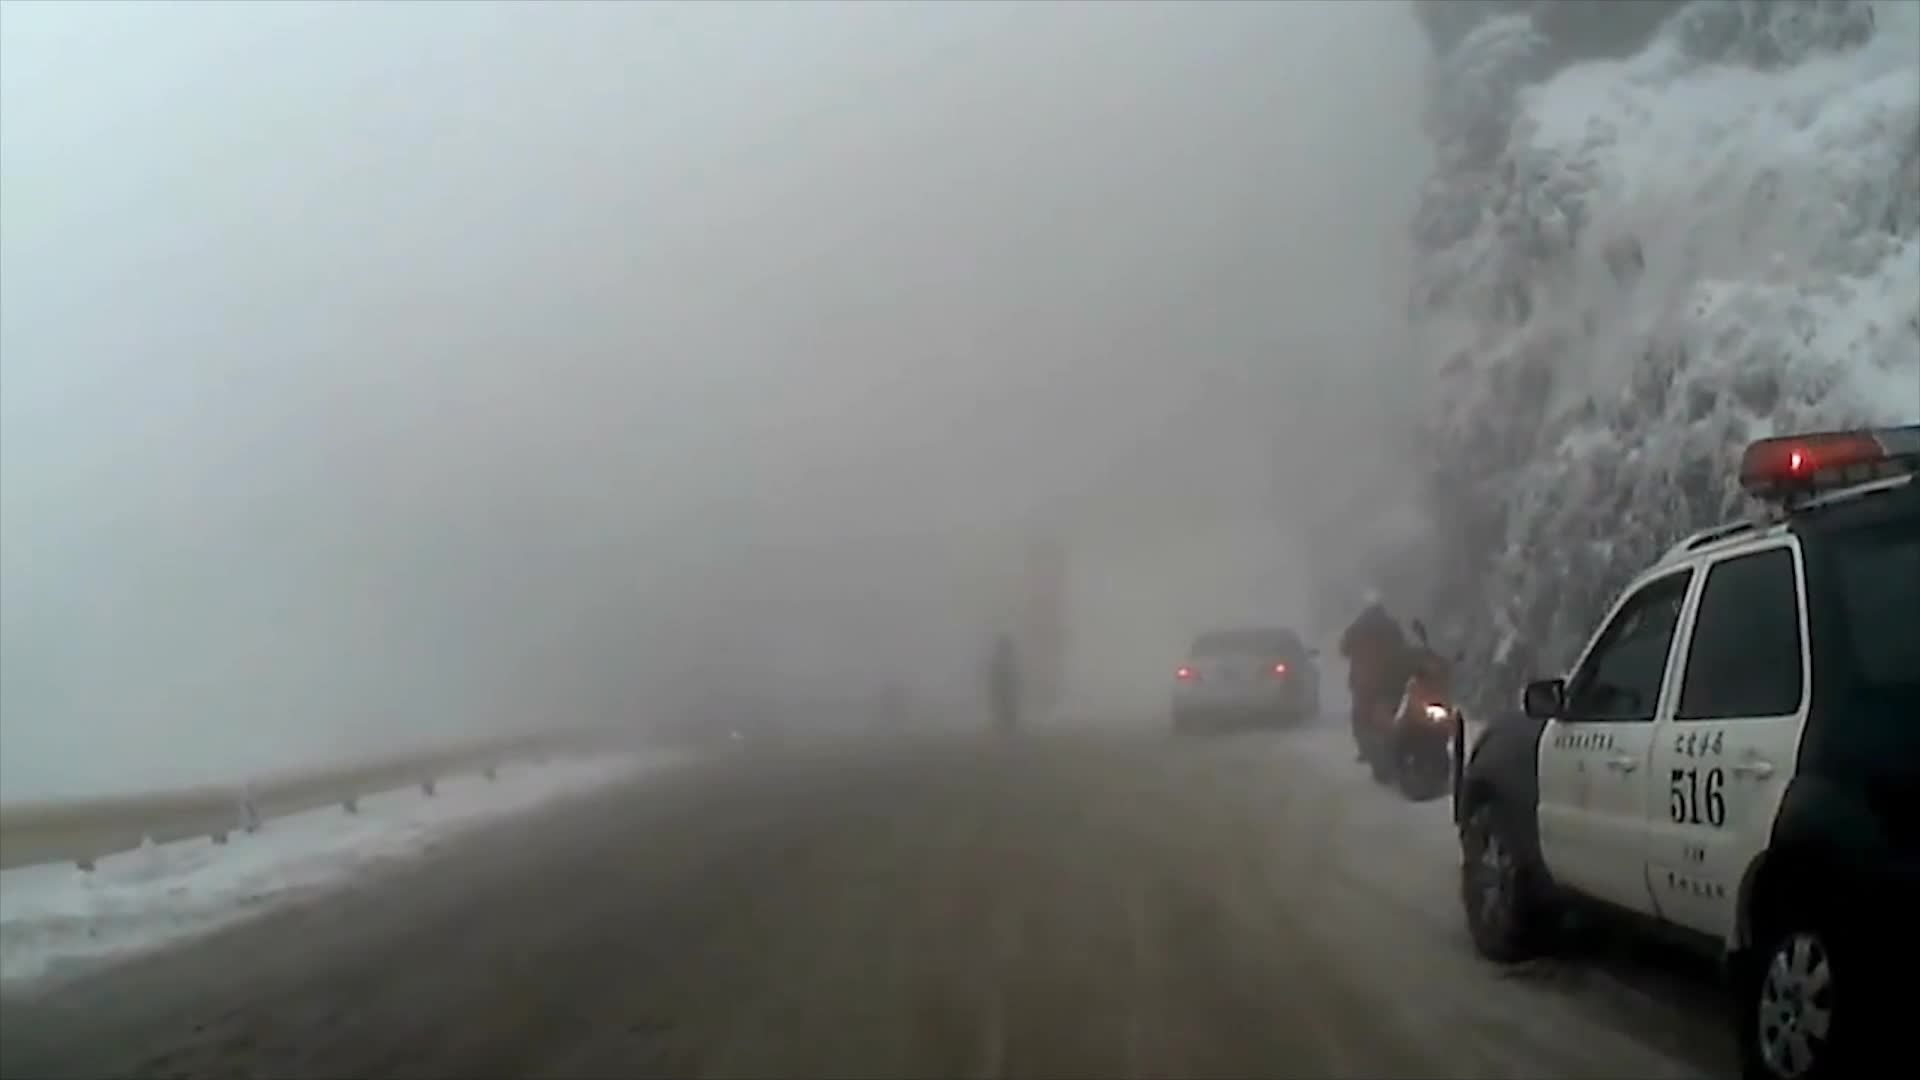pedestrian: (1335, 588, 1411, 758), (987, 628, 1023, 744)
vehicle: (1444, 424, 1917, 1080), (1168, 625, 1321, 739)
